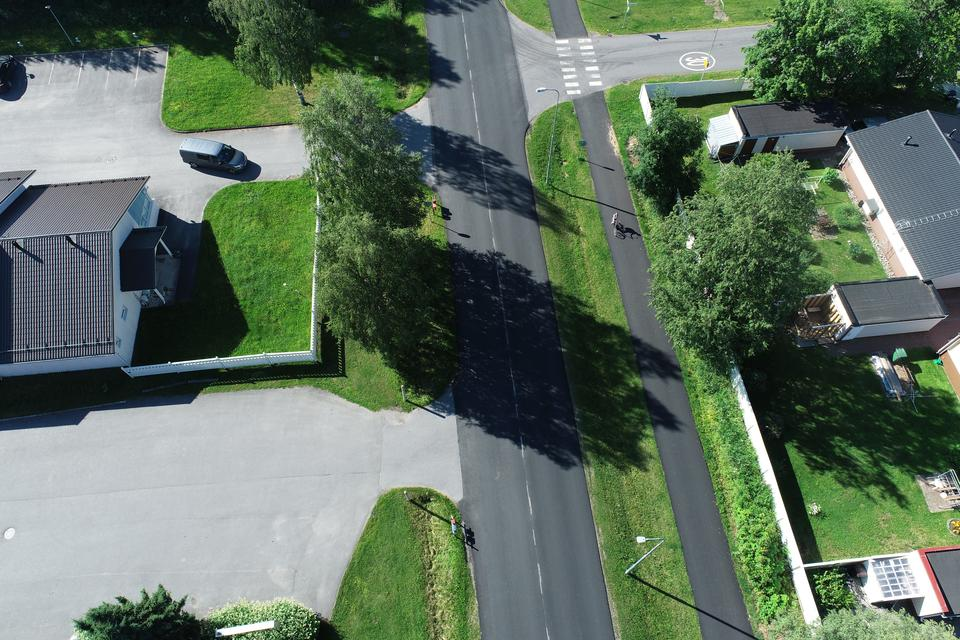intersection: (357, 6, 646, 143)
